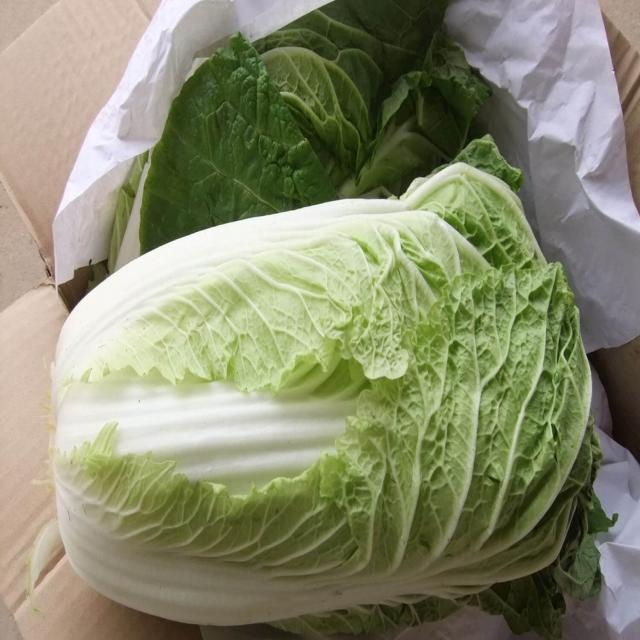cabbage: (7, 206, 613, 616)
